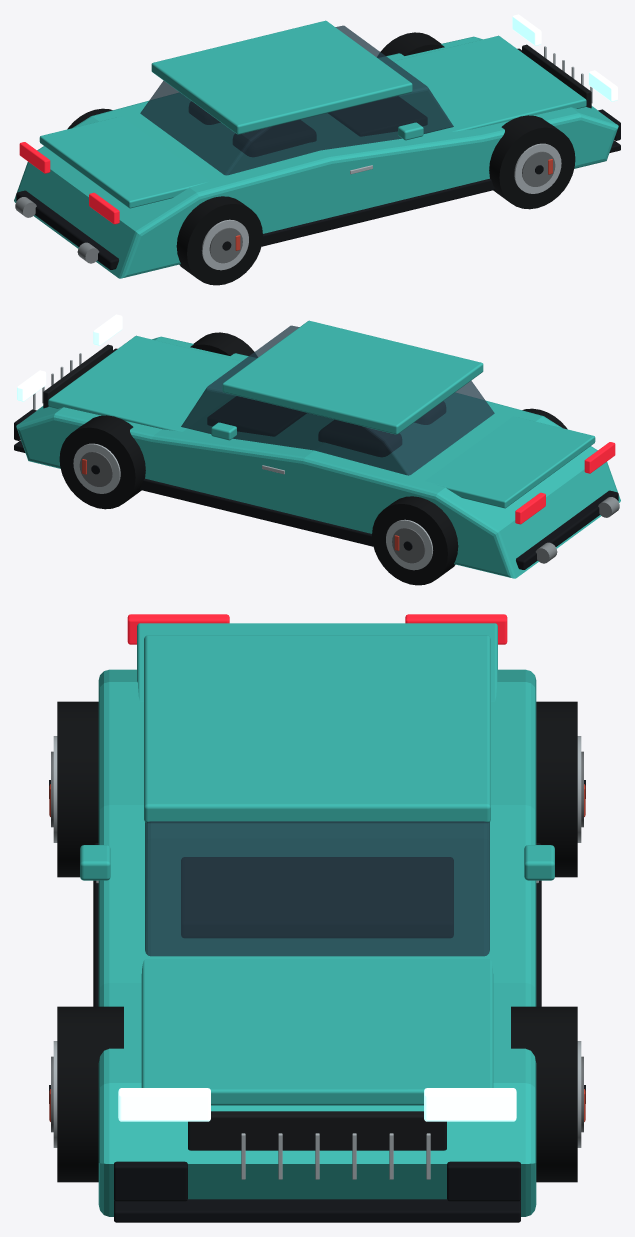
File: chevy_camaro_ss.glb
The picture shows the model from 3 angles, top to bottom: view 1: azimuth 30°, elevation 25°; view 2: azimuth 150°, elevation 25°; view 3: azimuth 270°, elevation 25°; orthographic projection. The views are drawn at different scales.
Parts seen in each view (by area): view 1: sculpted_body, roof, glasshouse, hood_center, rear_deck, front_right_wheel_tire, rear_right_wheel_tire, side_skirt_1, dashboard, seat_1, rear_diffuser, front_left_wheel_tire (+9 smaller); view 2: sculpted_body, roof, glasshouse, hood_center, rear_deck, front_left_wheel_tire, rear_left_wheel_tire, side_skirt_-1, dashboard, seat_-1, rear_diffuser, front_right_wheel_tire (+9 smaller); view 3: sculpted_body, roof, hood_center, glasshouse, dashboard, front_grille, front_splitter, front_left_wheel_tire, front_right_wheel_tire, rear_left_wheel_tire, rear_right_wheel_tire, rear_deck (+8 smaller).
Part boxes in pixels (x1,y1,x2,y2): sculpted_body: (14,36,618,278); roof: (151,20,412,134); glasshouse: (140,25,453,175); hood_center: (386,35,586,131); rear_deck: (39,116,209,208); front_right_wheel_tire: (489,115,575,209); rear_right_wheel_tire: (176,196,262,285); side_skirt_1: (261,178,495,246); dashboard: (328,96,426,135); seat_1: (233,120,315,156); rear_diffuser: (16,190,118,269); front_left_wheel_tire: (377,32,444,57); sculpted_body: (16,336,620,578); roof: (222,320,483,434); glasshouse: (181,325,494,475); hood_center: (48,335,248,431); rear_deck: (425,416,595,508); front_left_wheel_tire: (59,415,145,509); rear_left_wheel_tire: (372,496,458,585); side_skirt_-1: (139,478,373,546); dashboard: (208,396,306,435); seat_-1: (319,420,401,456); rear_diffuser: (516,490,618,569); front_right_wheel_tire: (190,332,257,357); sculpted_body: (98,669,536,1216); roof: (144,635,490,822); hood_center: (141,959,493,1105); glasshouse: (145,821,489,956); dashboard: (181,857,453,937); front_grille: (188,1111,446,1150); front_splitter: (114,1199,520,1222); front_left_wheel_tire: (511,1006,577,1182); front_right_wheel_tire: (57,1006,123,1182); rear_left_wheel_tire: (536,701,577,877); rear_right_wheel_tire: (57,701,98,877); rear_deck: (137,623,497,701).
Size of the model in its own units: 5.09 by 1.25 by 2.26.
